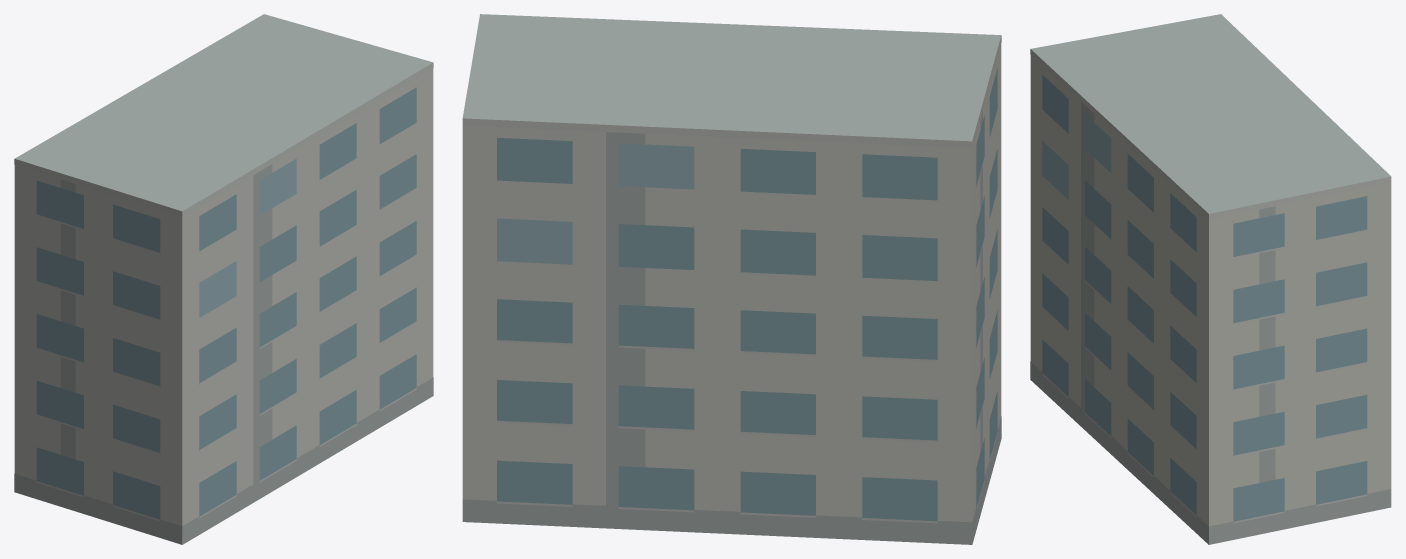
The model's file is survey-upis-32740669.glb.
3 views of the same model, side by side, from view 1: azimuth 30°, elevation 25°; view 2: azimuth 150°, elevation 25°; view 3: azimuth 270°, elevation 25° (orthographic). The views are drawn at different scales.
Visible parts, largest first — view 1: survey-upis-32740669.tmp; view 2: survey-upis-32740669.tmp; view 3: survey-upis-32740669.tmp.
Boxes of the visible parts, bbox=[...] form: survey-upis-32740669.tmp: bbox=[14, 14, 433, 544]; survey-upis-32740669.tmp: bbox=[462, 14, 1001, 544]; survey-upis-32740669.tmp: bbox=[1030, 14, 1391, 544].
Bounding box in the file's own units: 17.63 × 13.6 × 13.45.
